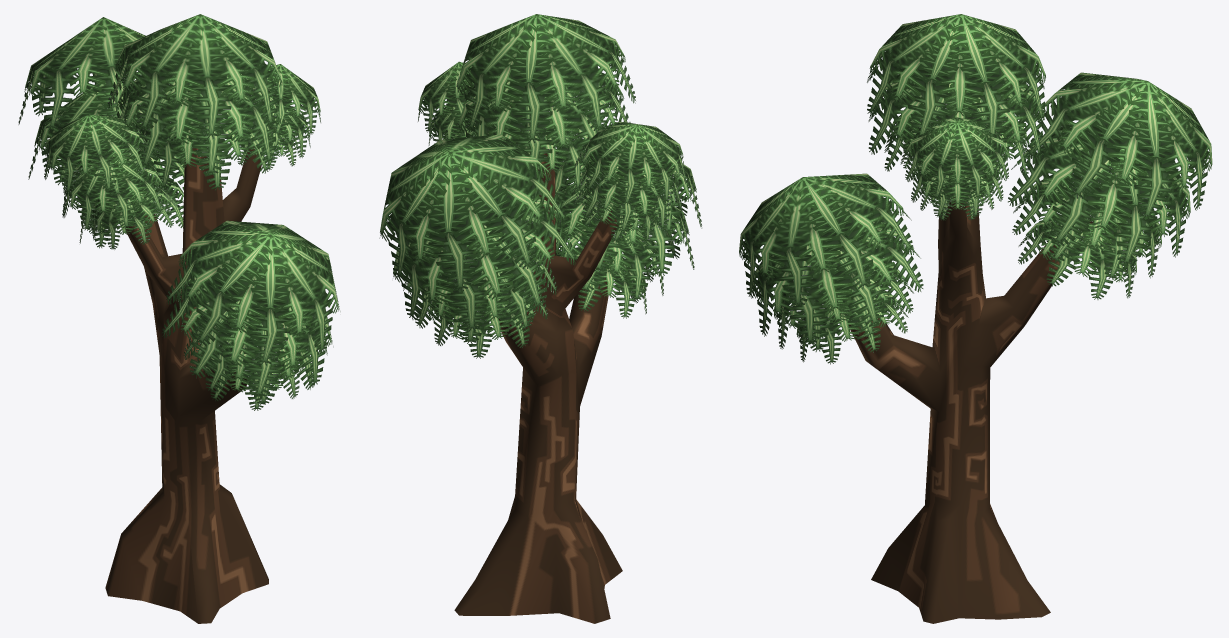
The model's file is ToonTree_03_Var_02.fbx.
3 renders of one model, left to right at view 1: azimuth 30°, elevation 25°; view 2: azimuth 150°, elevation 25°; view 3: azimuth 270°, elevation 25°, orthographic. The views are drawn at different scales.
Visible parts, largest first — view 1: Leaves, Bark; view 2: Leaves, Bark; view 3: Leaves, Bark.
Part boxes in pixels (x1,y1,x2,y2): Leaves: (18,14,340,410); Bark: (105,147,268,623); Leaves: (379,14,701,358); Bark: (454,148,622,623); Leaves: (739,14,1212,364); Bark: (849,197,1093,623).
Bounding box in the file's own units: 5.41 × 11.1 × 8.27.
